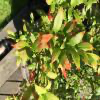Blueberry leaf: (70, 38, 96, 79), (51, 44, 71, 85), (21, 73, 47, 99), (11, 39, 35, 63), (61, 16, 84, 38), (68, 29, 88, 50), (51, 5, 63, 39), (33, 33, 54, 52)
